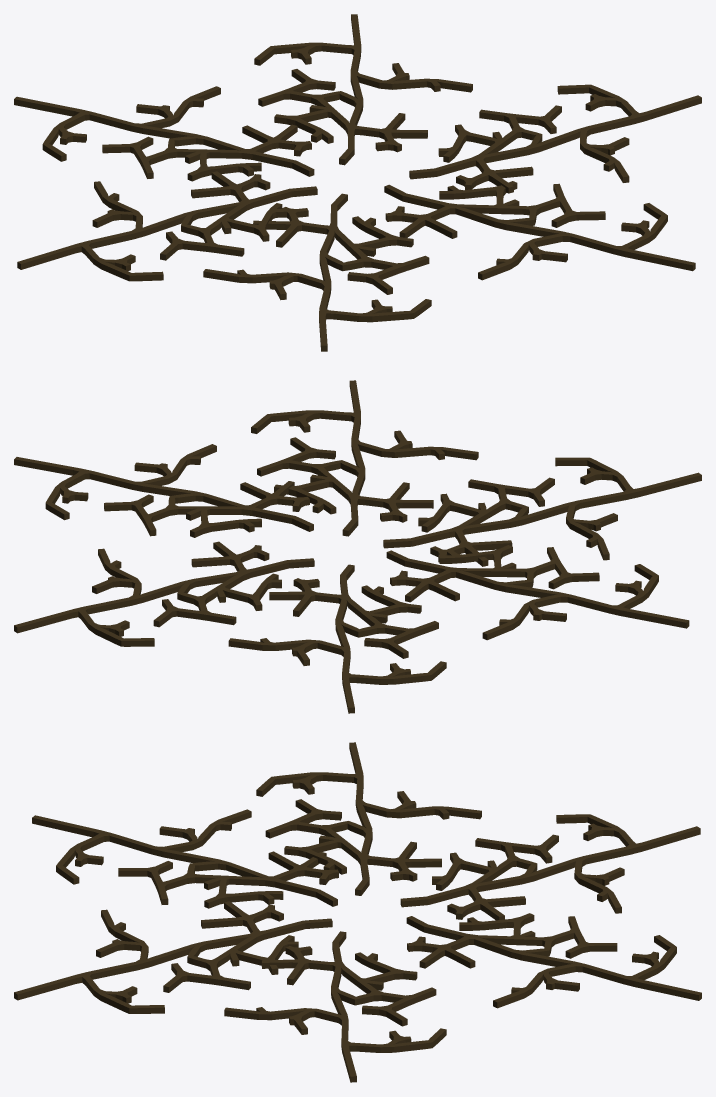
File: Racine.fbx
The picture shows the model from 3 angles, top to bottom: view 1: azimuth 30°, elevation 25°; view 2: azimuth 150°, elevation 25°; view 3: azimuth 270°, elevation 25°; orthographic projection.
Parts seen in each view (by area): view 1: Racines; view 2: Racines; view 3: Racines.
Boxes of the visible parts, x1=… form: Racines: x1=14, y1=14, x2=701, y2=351; Racines: x1=14, y1=380, x2=701, y2=713; Racines: x1=14, y1=742, x2=701, y2=1082.
Size of the model in its own units: 527 by 5.96 by 458.
